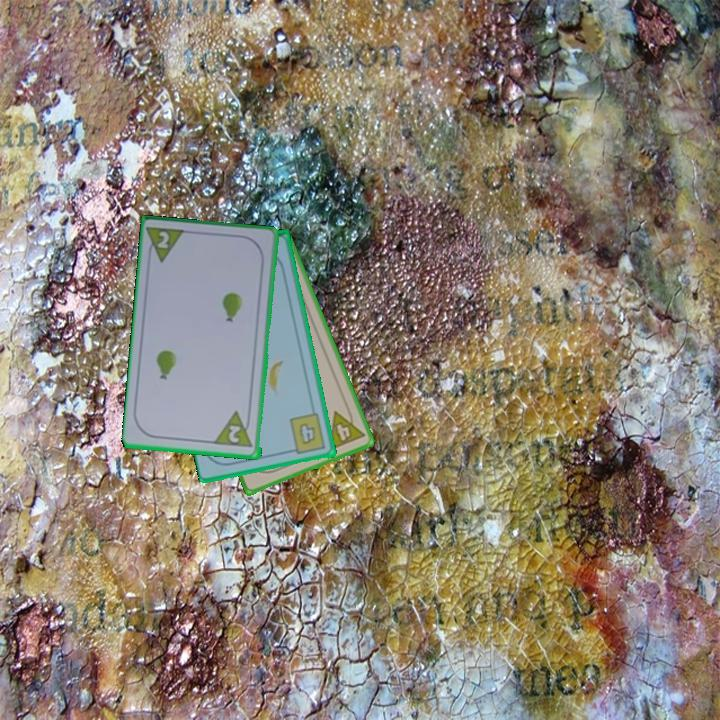2p: (225, 422, 245, 446), (154, 228, 172, 252)
4b: (286, 410, 329, 457)
4p: (325, 403, 368, 453)
